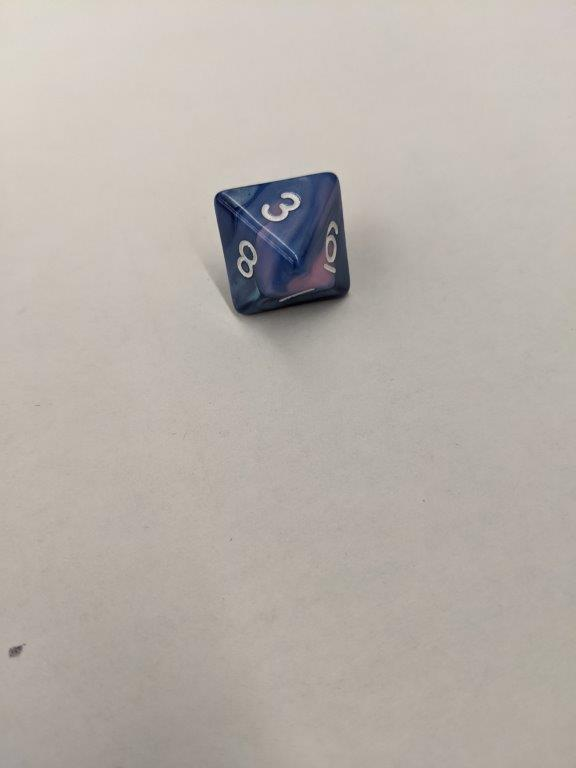d8-3: (217, 171, 353, 316)
